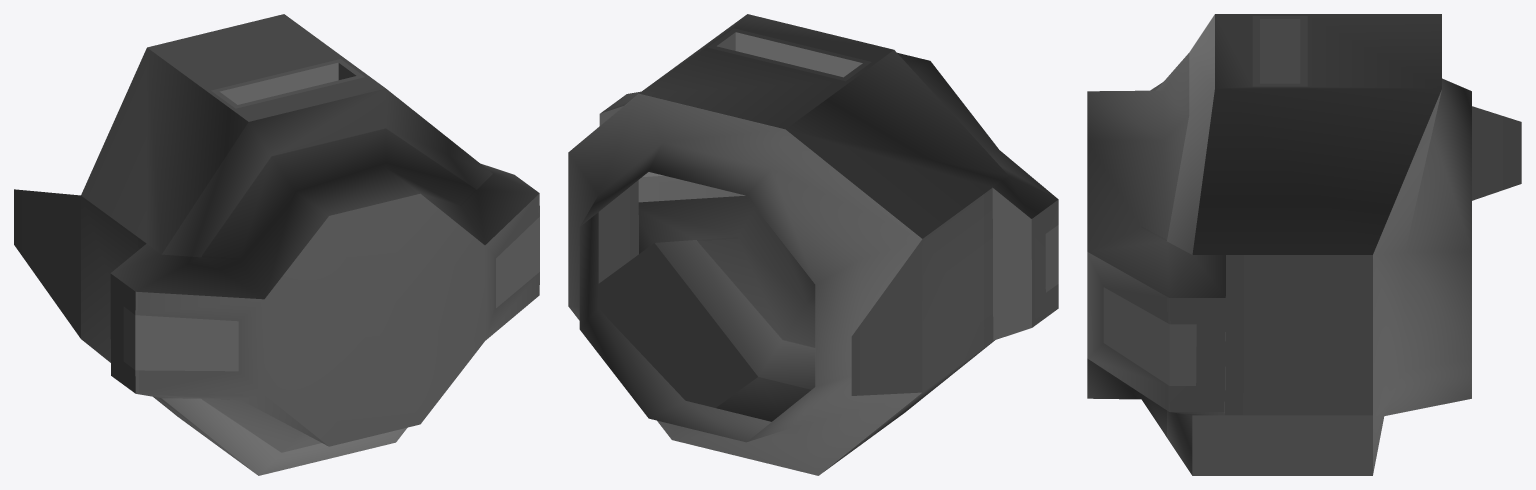
Rendered from stat_hangar4.glb.
The picture shows the model from 3 angles, left to right: view 1: azimuth 30°, elevation 25°; view 2: azimuth 150°, elevation 25°; view 3: azimuth 270°, elevation 25°; orthographic projection. The views are drawn at different scales.
Parts seen in each view (by area): view 1: group_19; view 2: group_19; view 3: group_19.
Boxes of the visible parts, x1,y1,x2,y2 form: group_19: [14, 14, 539, 475]; group_19: [568, 14, 1058, 475]; group_19: [1087, 14, 1521, 475].
Bounding box in the file's own units: 13881 × 11372 × 11558.
2 materials, 2 textured.
